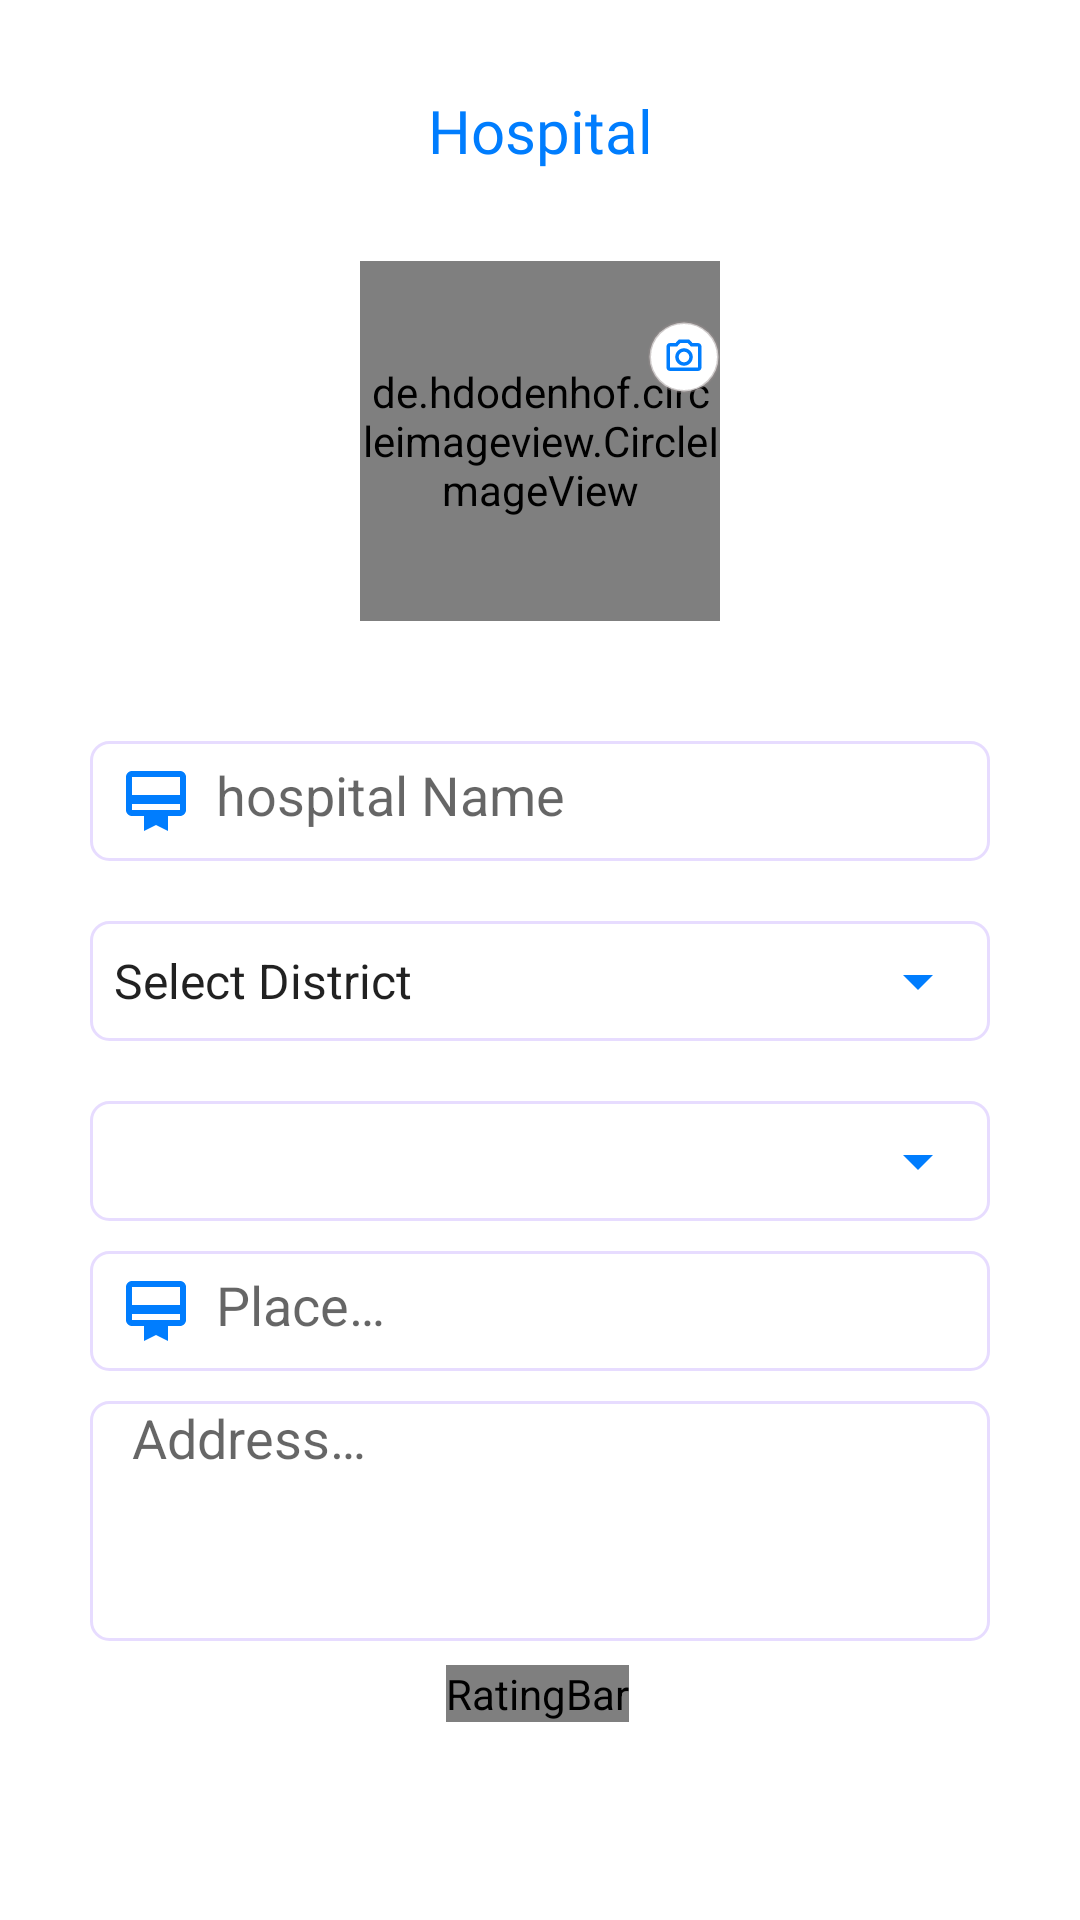

Screen size 1080×1920. Icon name, then its box in pixels as (x1, y1, x2, y2):
camera: (648, 322, 719, 393)
